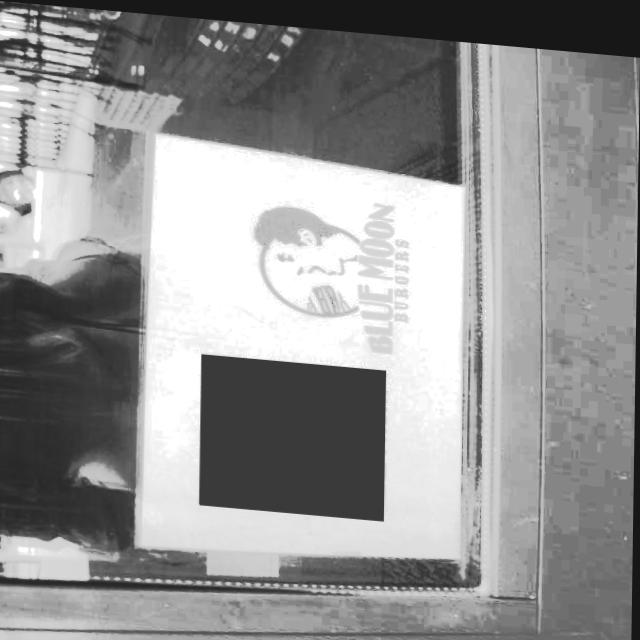qr_code: (200, 349, 387, 513)
